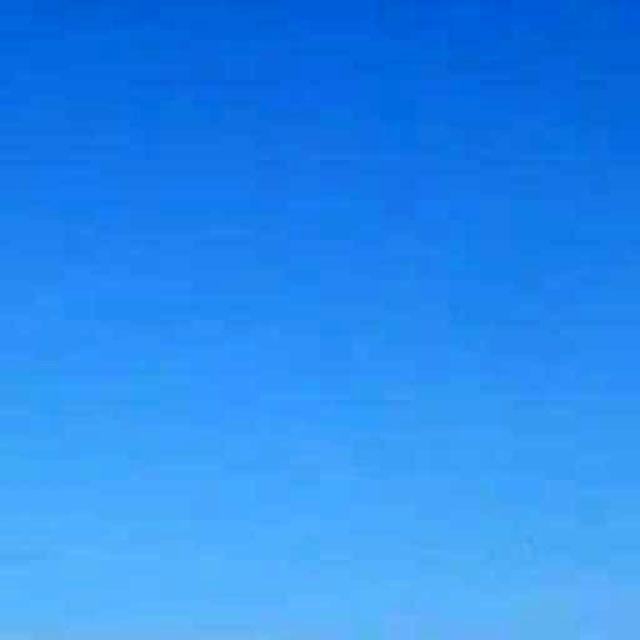drone: (498, 502, 559, 580)
